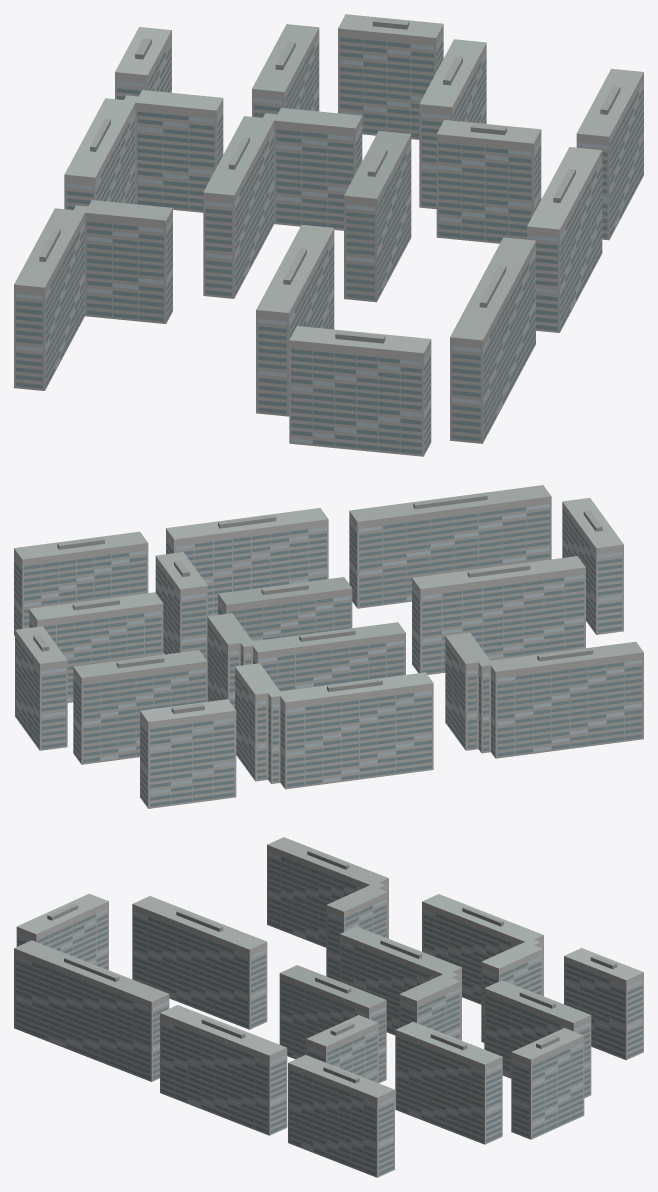
Rendered from apt-a14380414.glb.
3 views of the same model, one above another, from view 1: azimuth 30°, elevation 25°; view 2: azimuth 150°, elevation 25°; view 3: azimuth 270°, elevation 25° (orthographic). The views are drawn at different scales.
Parts seen in each view (by area): view 1: apt-a14380414; view 2: apt-a14380414; view 3: apt-a14380414.
Part boxes in pixels (x1=…): apt-a14380414: x1=14, y1=14, x2=643, y2=456; apt-a14380414: x1=14, y1=485, x2=643, y2=808; apt-a14380414: x1=14, y1=837, x2=643, y2=1177.
Bounding box in the file's own units: 298 × 44.62 × 304.
